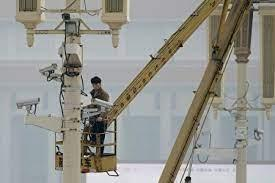tutu: (13, 92, 51, 115), (89, 94, 120, 117), (39, 60, 59, 78), (250, 126, 271, 139)
